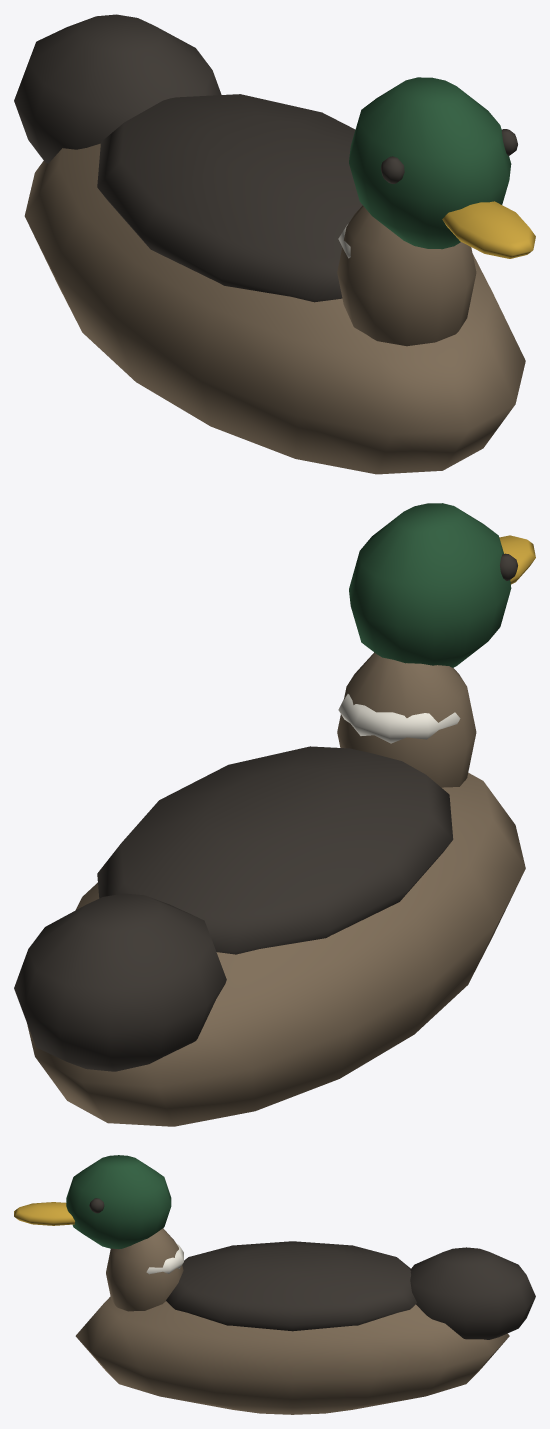
Rendered from duck.meshopt.glb.
3 renders of one model, top to bottom at view 1: azimuth 30°, elevation 25°; view 2: azimuth 150°, elevation 25°; view 3: azimuth 270°, elevation 25°, orthographic. The views are drawn at different scales.
Parts seen in each view (by area): view 1: duck; view 2: duck; view 3: duck.
Boxes of the visible parts, left/top/right/bottom form: duck: left=14, top=14, right=535, bottom=474; duck: left=14, top=503, right=535, bottom=1126; duck: left=14, top=1155, right=535, bottom=1414.
Size of the model in its own units: 0.24 by 0.2988 by 0.6006.
